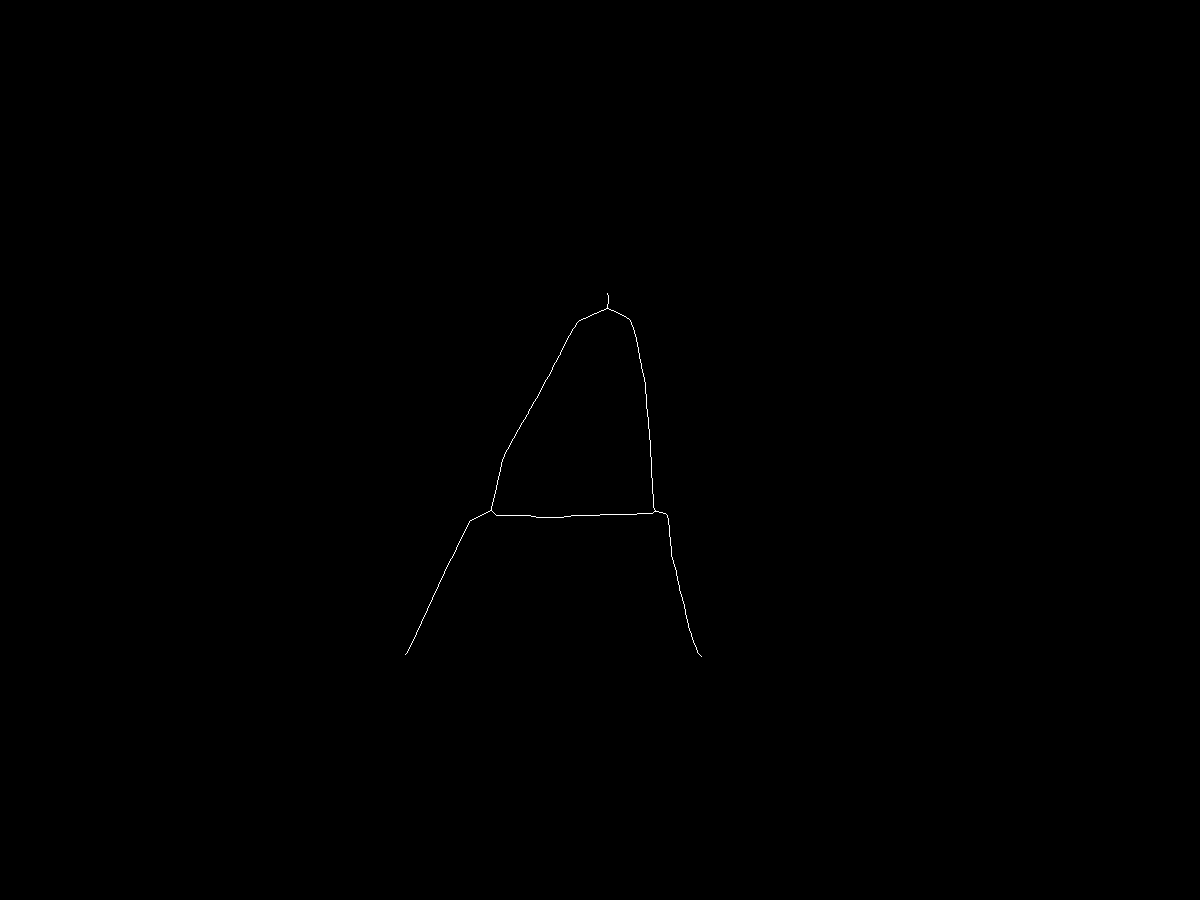dian1: (599, 301, 612, 314)
dian2: (485, 500, 503, 518)
dian3: (401, 648, 416, 663)
dian4: (641, 506, 663, 528)
dian5: (690, 646, 707, 663)
